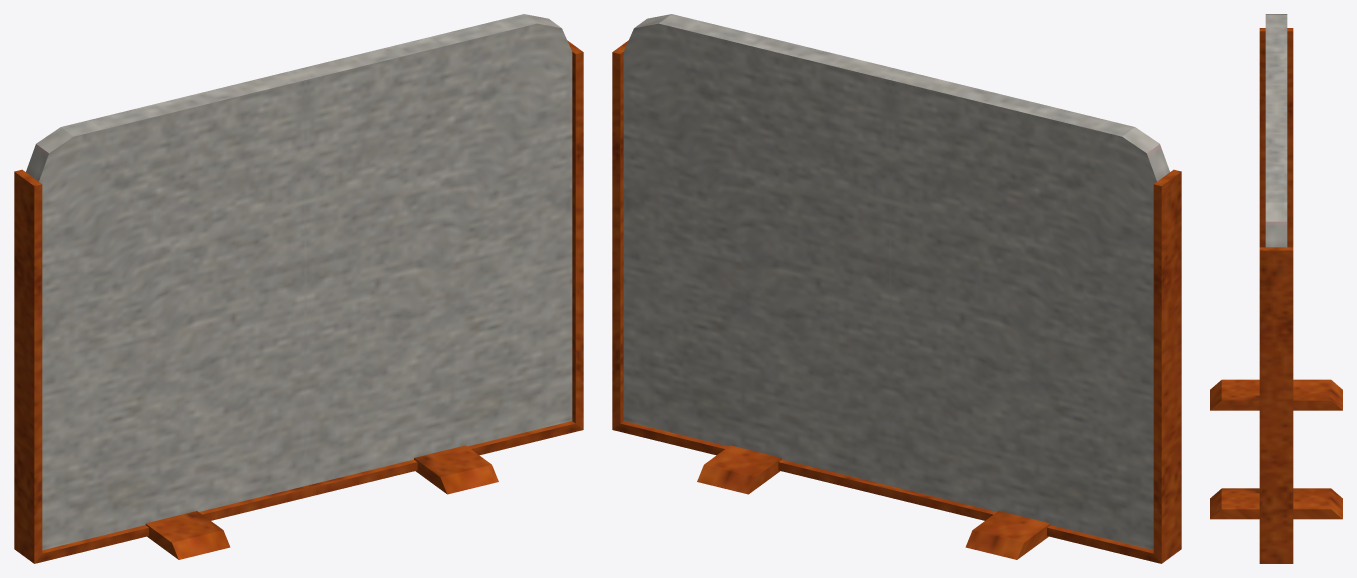
File: divider_veneer_low_half.fbx
3 renders of one model, left to right at view 1: azimuth 30°, elevation 25°; view 2: azimuth 150°, elevation 25°; view 3: azimuth 270°, elevation 25°, orthographic. The views are drawn at different scales.
Parts seen in each view (by area): view 1: divider_veneer_low_half; view 2: divider_veneer_low_half; view 3: divider_veneer_low_half.
Boxes of the visible parts, <box> form: divider_veneer_low_half: <box>14,14,583,563</box>; divider_veneer_low_half: <box>612,14,1181,563</box>; divider_veneer_low_half: <box>1210,14,1342,563</box>.
Size of the model in its own units: 207 by 150 by 52.3.
Materials: 1 (1 with a texture image).
